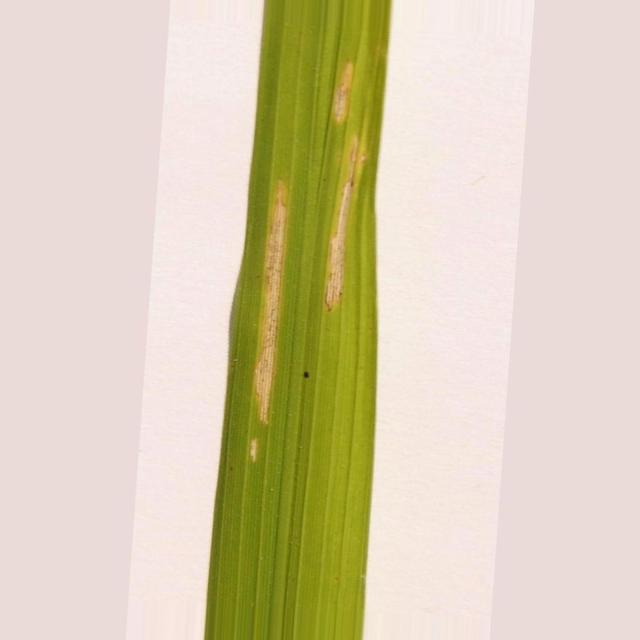Bacterial_Leaf_Blight: (255, 185, 286, 423), (325, 180, 352, 309), (332, 61, 354, 124), (250, 438, 259, 462)
